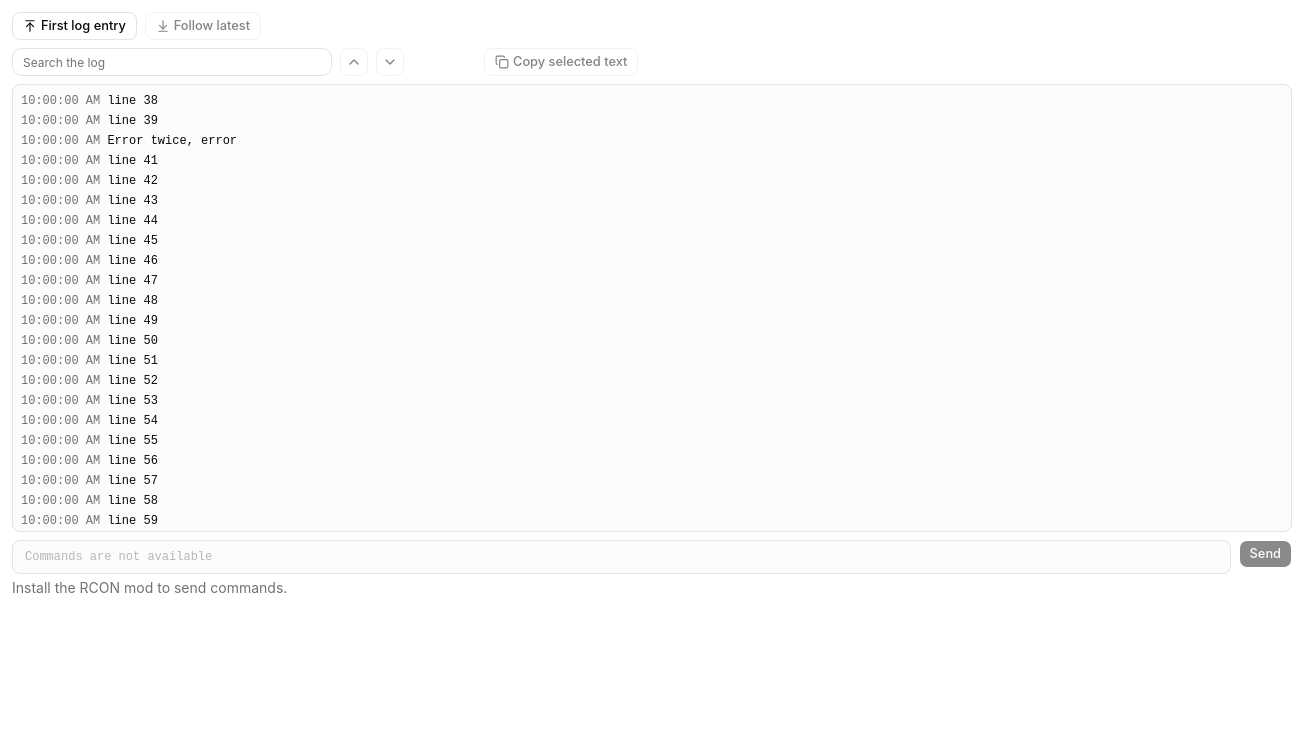
it: searching the console › moves to the next and previous match with Enter and Shift+Enter, wrapping at both ends
(page scrolled)
Type "error" into the search field named "Search the console".
click(172, 62); type("error")  # box x1=12 y1=48 x2=332 y2=76
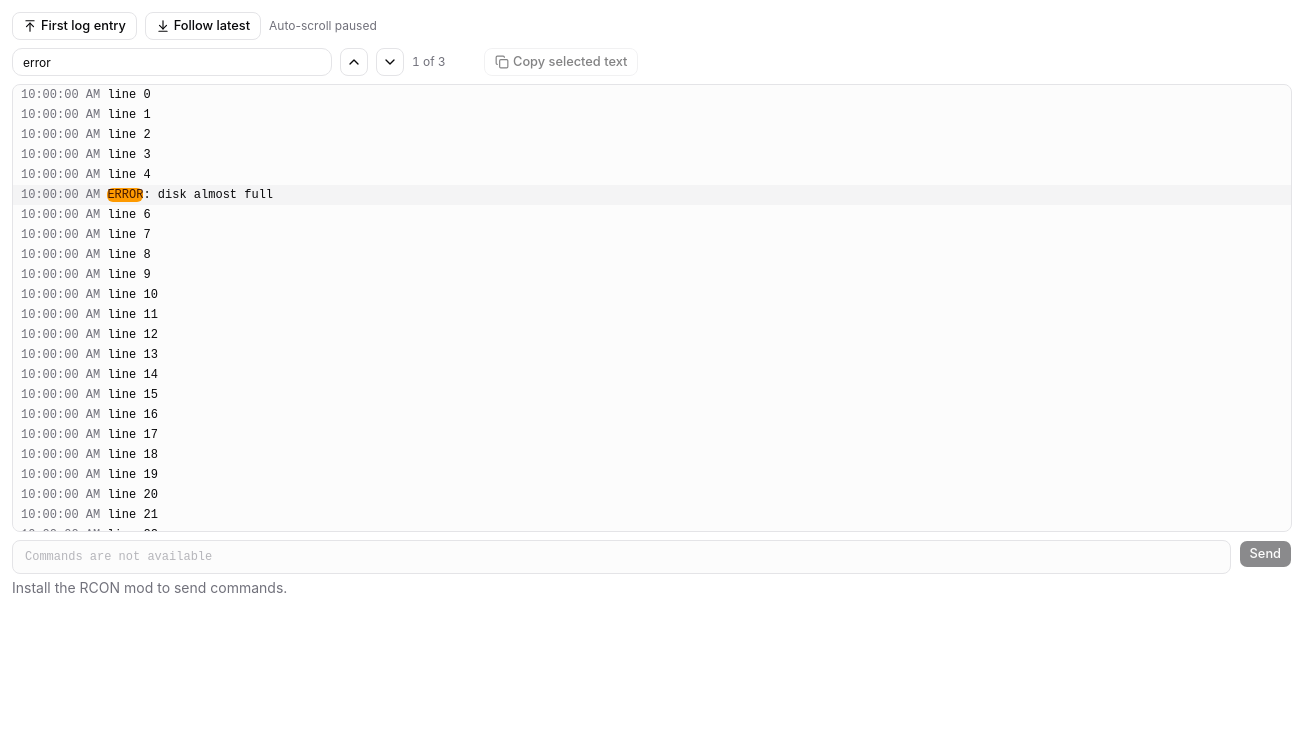
Press Enter in the search field named "Search the console", box x1=12 y1=48 x2=332 y2=76
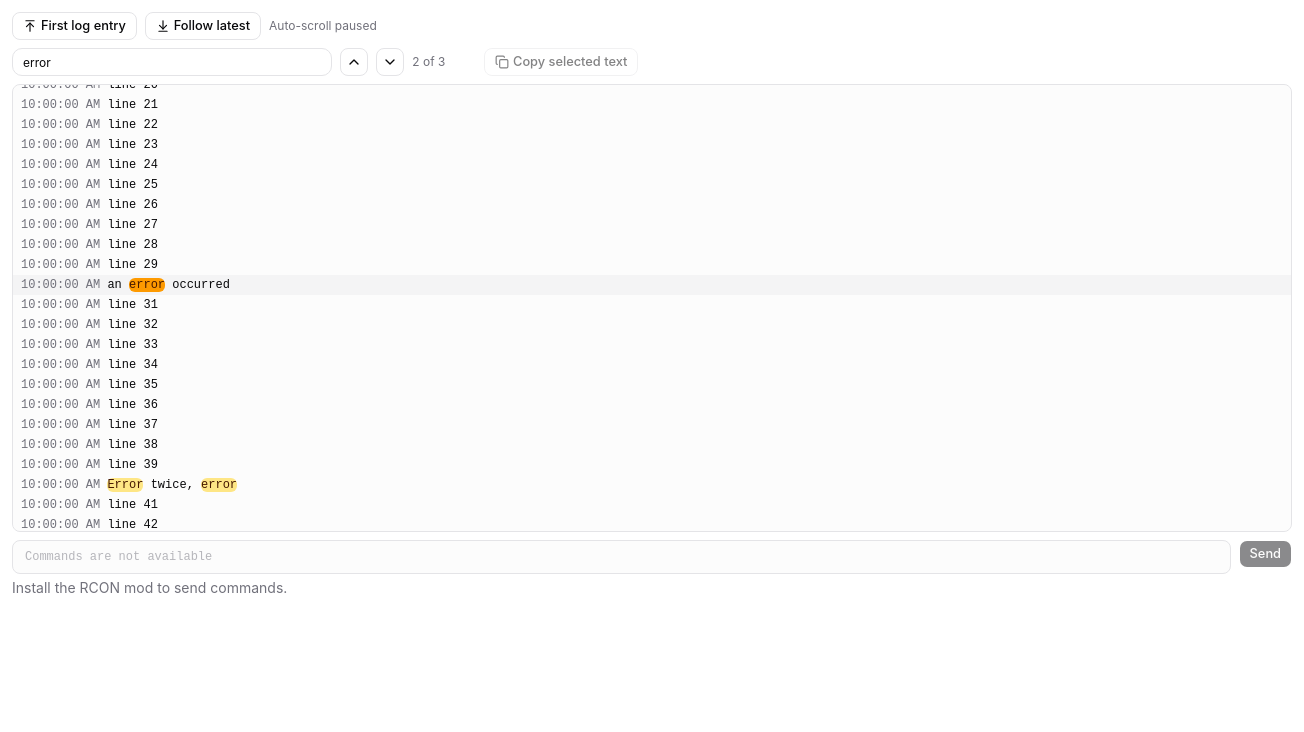
Expected: the text "2 of 3" is shown, x1=412 y1=54 x2=446 y2=69
Expected: the element showing "10:00:00 AM an error occurred" is shown, x1=13 y1=275 x2=1291 y2=295
Press Enter in the search field named "Search the console", box x1=12 y1=48 x2=332 y2=76
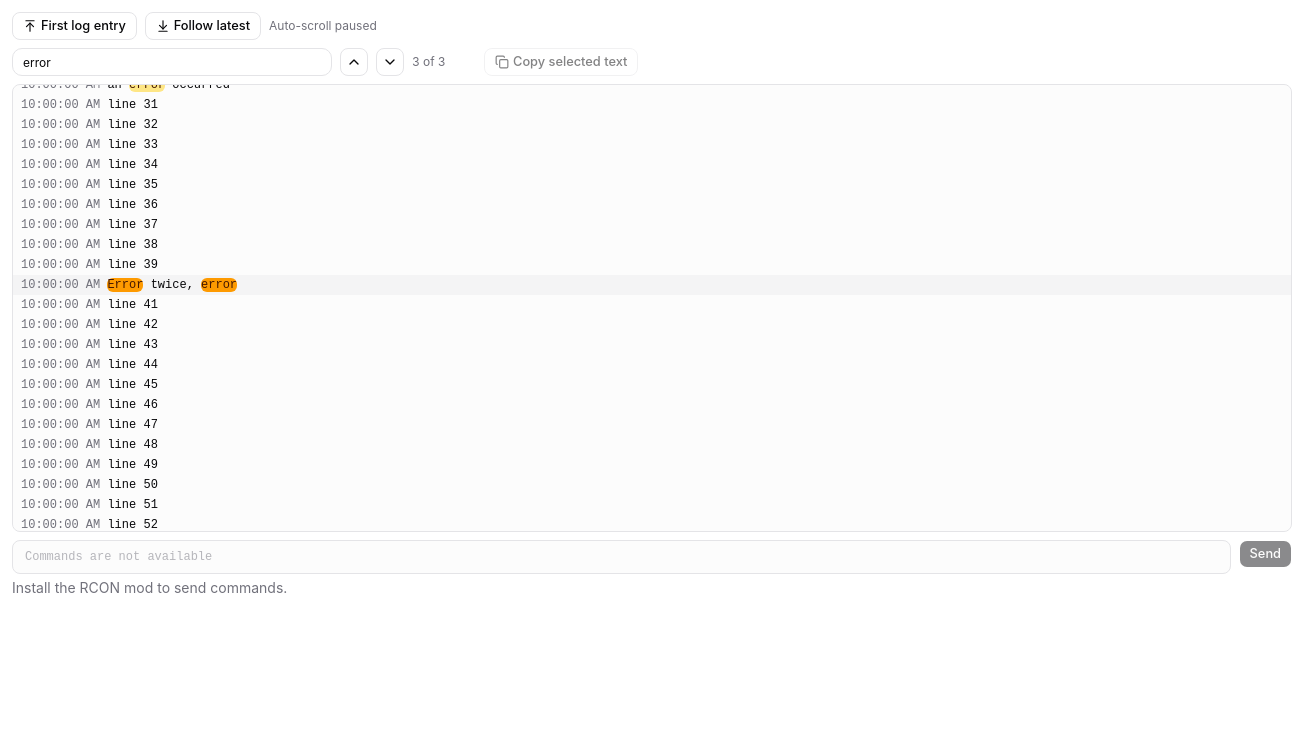
Expected: the element showing "10:00:00 AM Error twice, error" is shown, x1=13 y1=275 x2=1291 y2=295
Expected: the text "3 of 3" is shown, x1=412 y1=54 x2=446 y2=69
Press Enter in the search field named "Search the console", box x1=12 y1=48 x2=332 y2=76
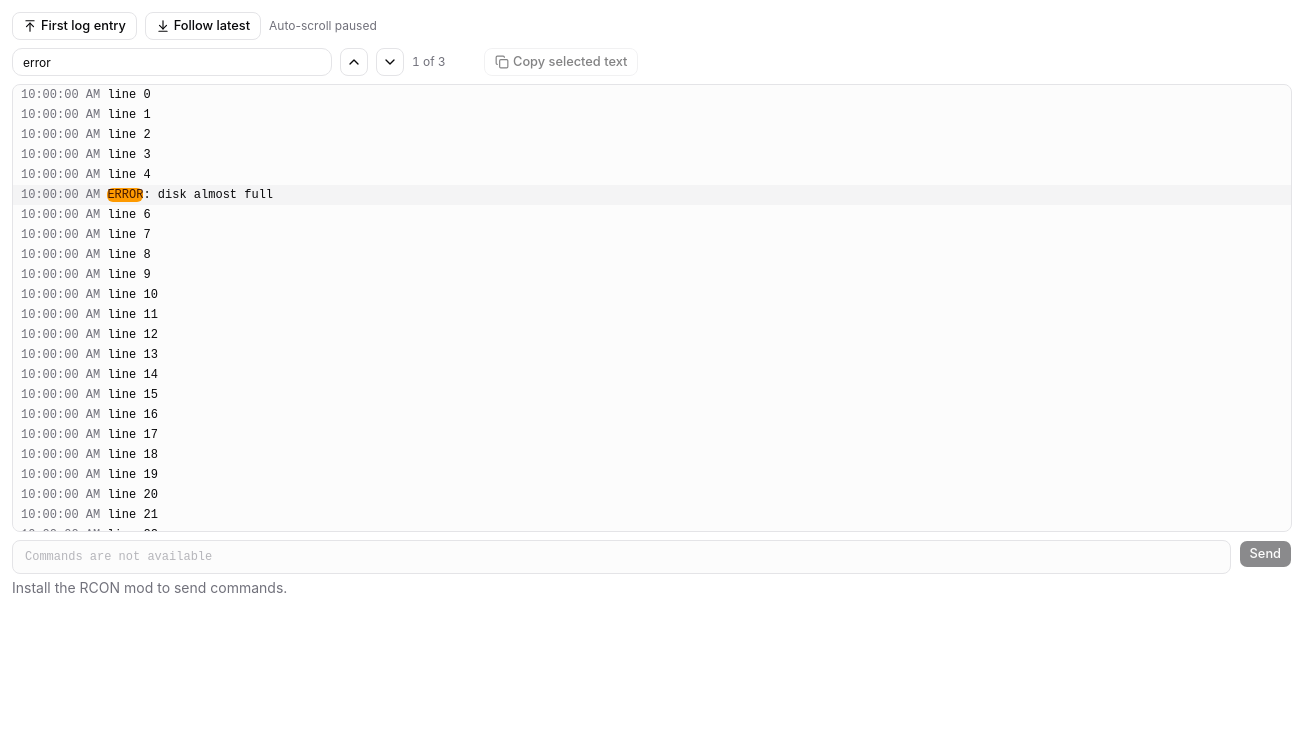
Expected: the text "1 of 3" is shown, x1=412 y1=54 x2=446 y2=69
Expected: the element showing "10:00:00 AM ERROR: disk almost full" is shown, x1=13 y1=185 x2=1291 y2=205
Press Enter in the search field named "Search the console", box x1=12 y1=48 x2=332 y2=76
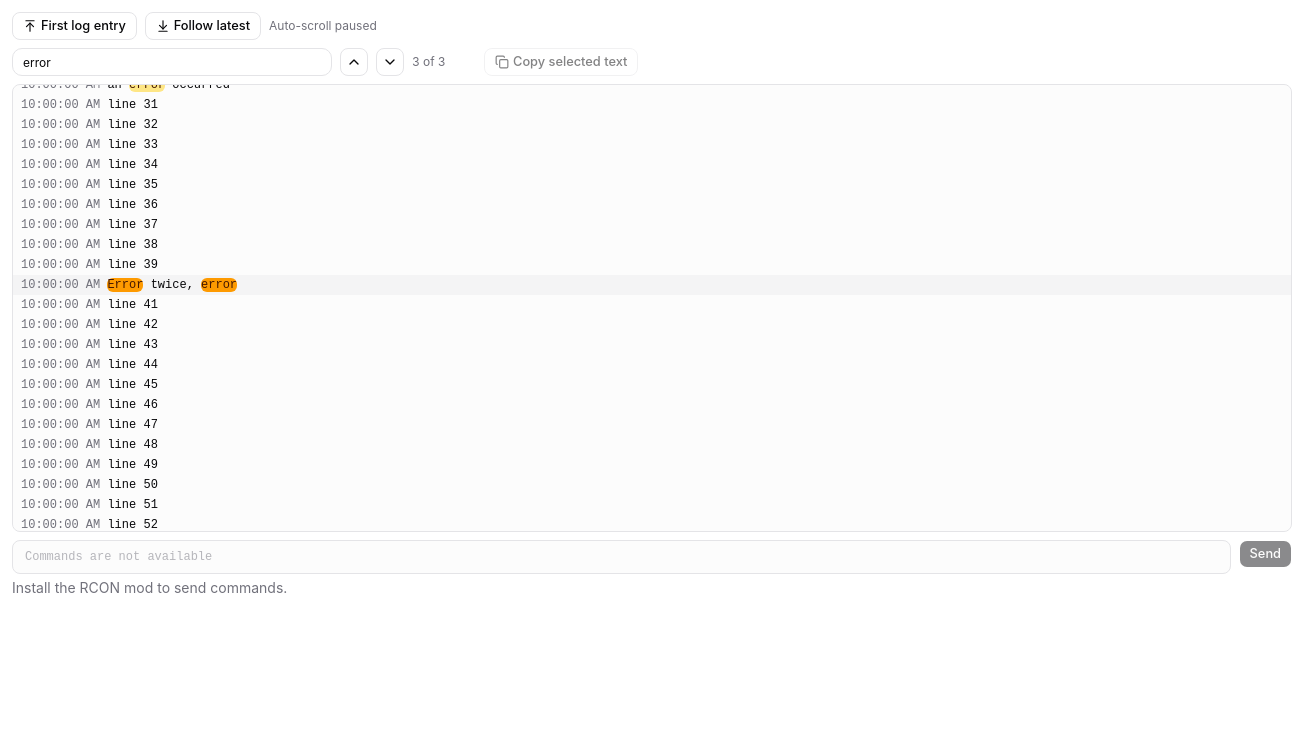
Expected: the text "3 of 3" is shown, x1=412 y1=54 x2=446 y2=69
Expected: the element showing "10:00:00 AM Error twice, error" is shown, x1=13 y1=275 x2=1291 y2=295
